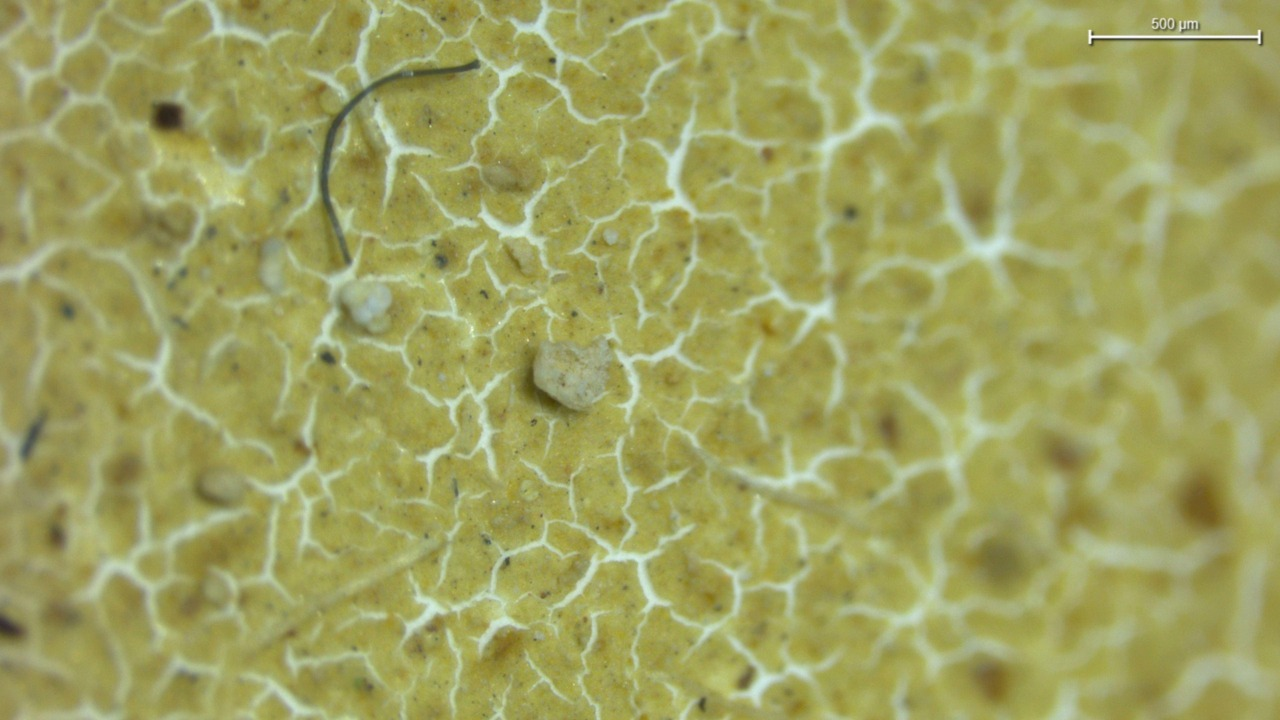microplastic_fragment: (533, 340, 615, 411), (336, 280, 392, 333)
